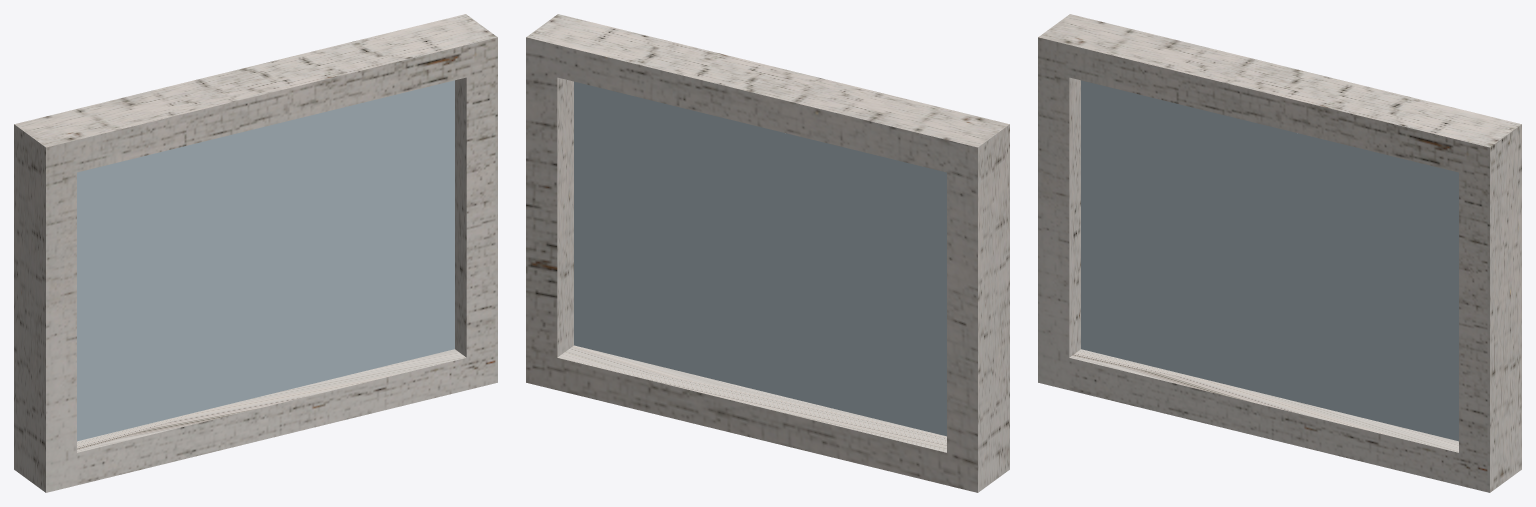
Rendered from BROKENwindow.glb.
3 views of the same model, side by side, from view 1: azimuth 30°, elevation 25°; view 2: azimuth 150°, elevation 25°; view 3: azimuth 330°, elevation 25° (orthographic).
Visible parts, largest first — view 1: window frame, broken_window, broken_window_cell.001, broken_window_cell.002, broken_window_cell, broken_window_cell.003, broken_window_cell.004, broken_window_cell.006; view 2: broken_window, window frame, broken_window_cell.003, broken_window_cell.001, broken_window_cell.002, broken_window_cell; view 3: window frame, broken_window, broken_window_cell.002, broken_window_cell.003, broken_window_cell.004, broken_window_cell, broken_window_cell.001, broken_window_cell.005.
Boxes of the visible parts, left/top/right/bottom form: window frame: left=14, top=14, right=497, bottom=492; broken_window: left=77, top=80, right=454, bottom=441; broken_window_cell.001: left=246, top=215, right=454, bottom=396; broken_window_cell.002: left=77, top=126, right=268, bottom=292; broken_window_cell: left=264, top=80, right=454, bottom=230; broken_window_cell.003: left=101, top=255, right=258, bottom=423; broken_window_cell.004: left=77, top=287, right=141, bottom=436; broken_window_cell.006: left=436, top=262, right=454, bottom=353; broken_window: left=574, top=81, right=946, bottom=436; window frame: left=526, top=14, right=1009, bottom=492; broken_window_cell.003: left=772, top=254, right=938, bottom=434; broken_window_cell.001: left=574, top=211, right=782, bottom=370; broken_window_cell.002: left=759, top=128, right=946, bottom=287; broken_window_cell: left=574, top=82, right=764, bottom=225; window frame: left=1038, top=14, right=1521, bottom=492; broken_window: left=1081, top=80, right=1458, bottom=441; broken_window_cell.002: left=1086, top=81, right=1285, bottom=244; broken_window_cell.003: left=1106, top=230, right=1276, bottom=395; broken_window_cell.004: left=1081, top=201, right=1157, bottom=354; broken_window_cell: left=1280, top=132, right=1458, bottom=303; broken_window_cell.001: left=1272, top=233, right=1458, bottom=437; broken_window_cell.005: left=1081, top=80, right=1093, bottom=203.
Size of the model in its own units: 3.83 by 2.8 by 0.468.
2 materials, 1 textured.
